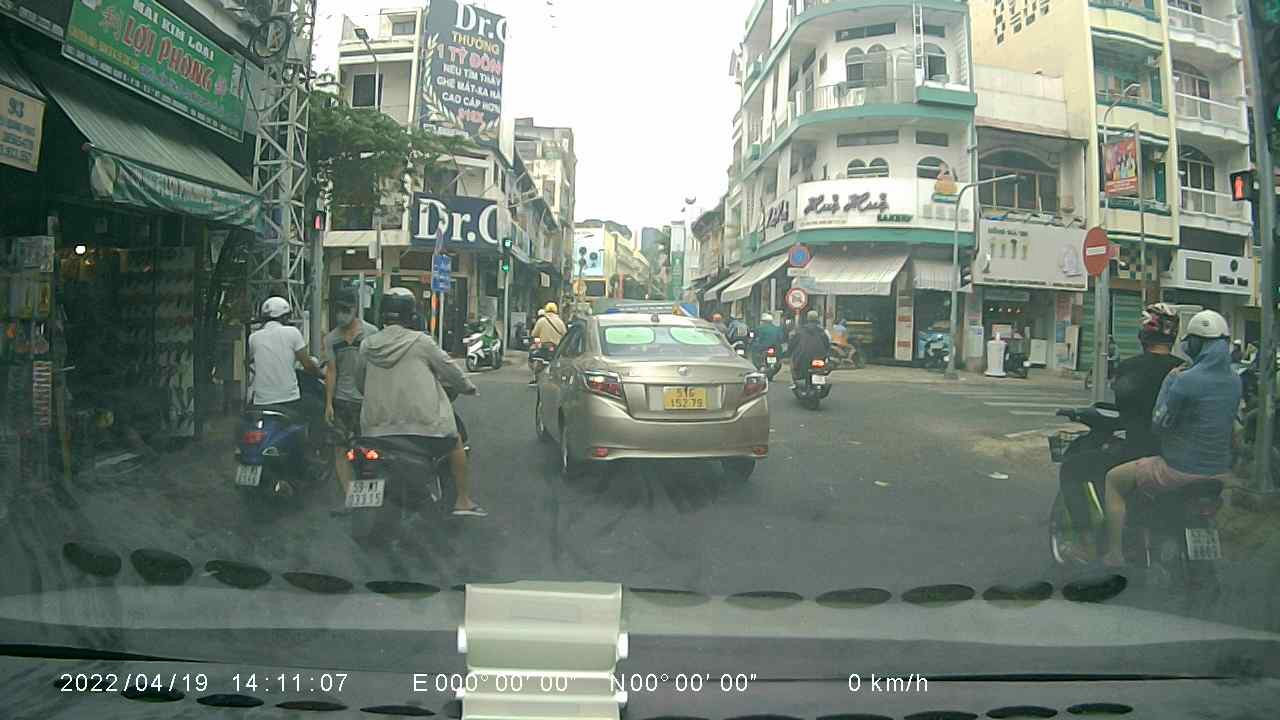Cam di nguoc chieu: (1081, 224, 1112, 277)
